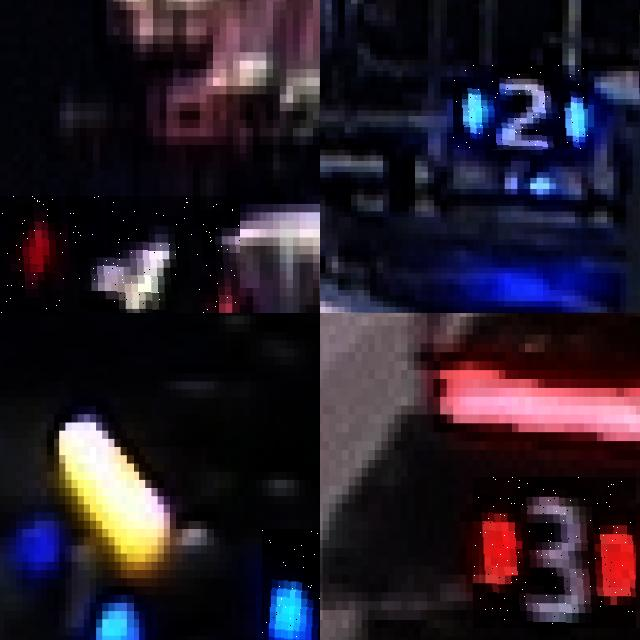B1: (9, 504, 145, 640), (262, 528, 320, 640)
B2: (453, 66, 588, 150)
R3: (473, 477, 636, 628)
R4: (0, 195, 239, 313)
